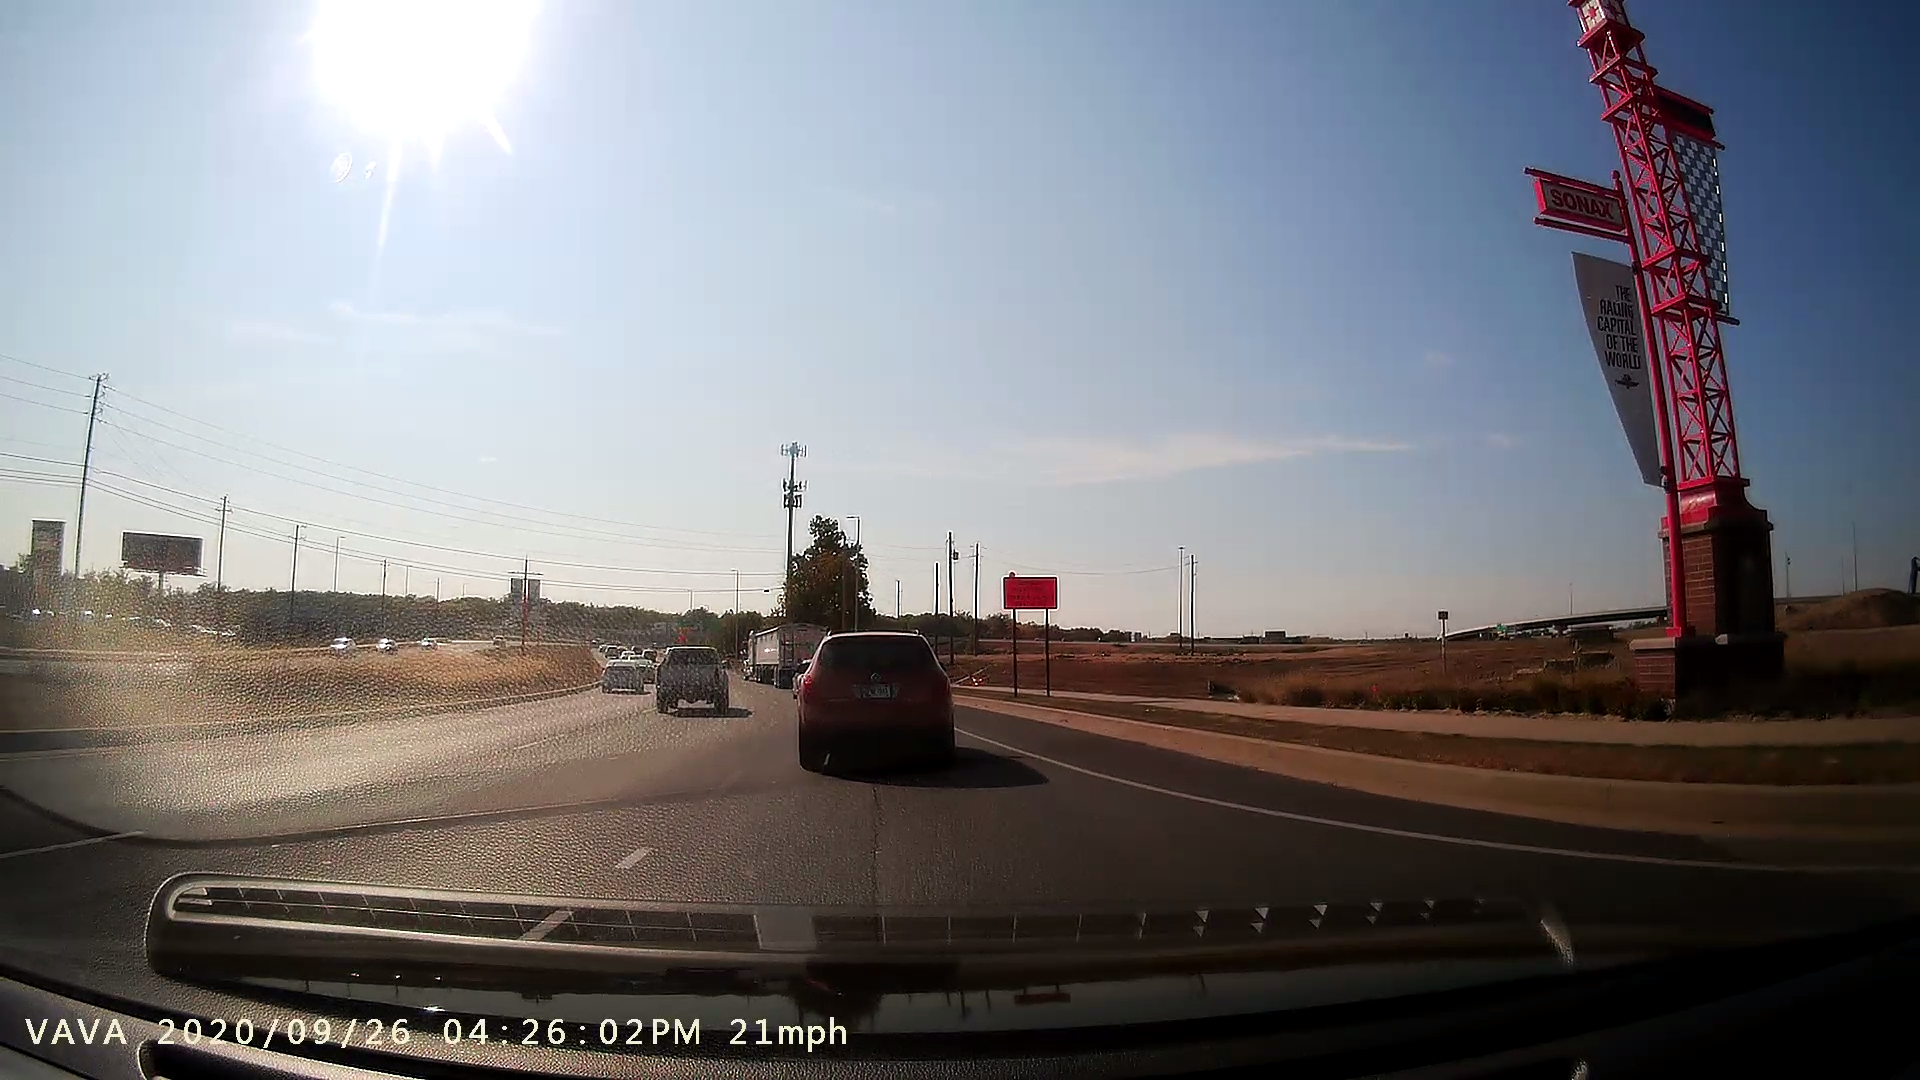temperary_sign: (992, 556, 1071, 703)
